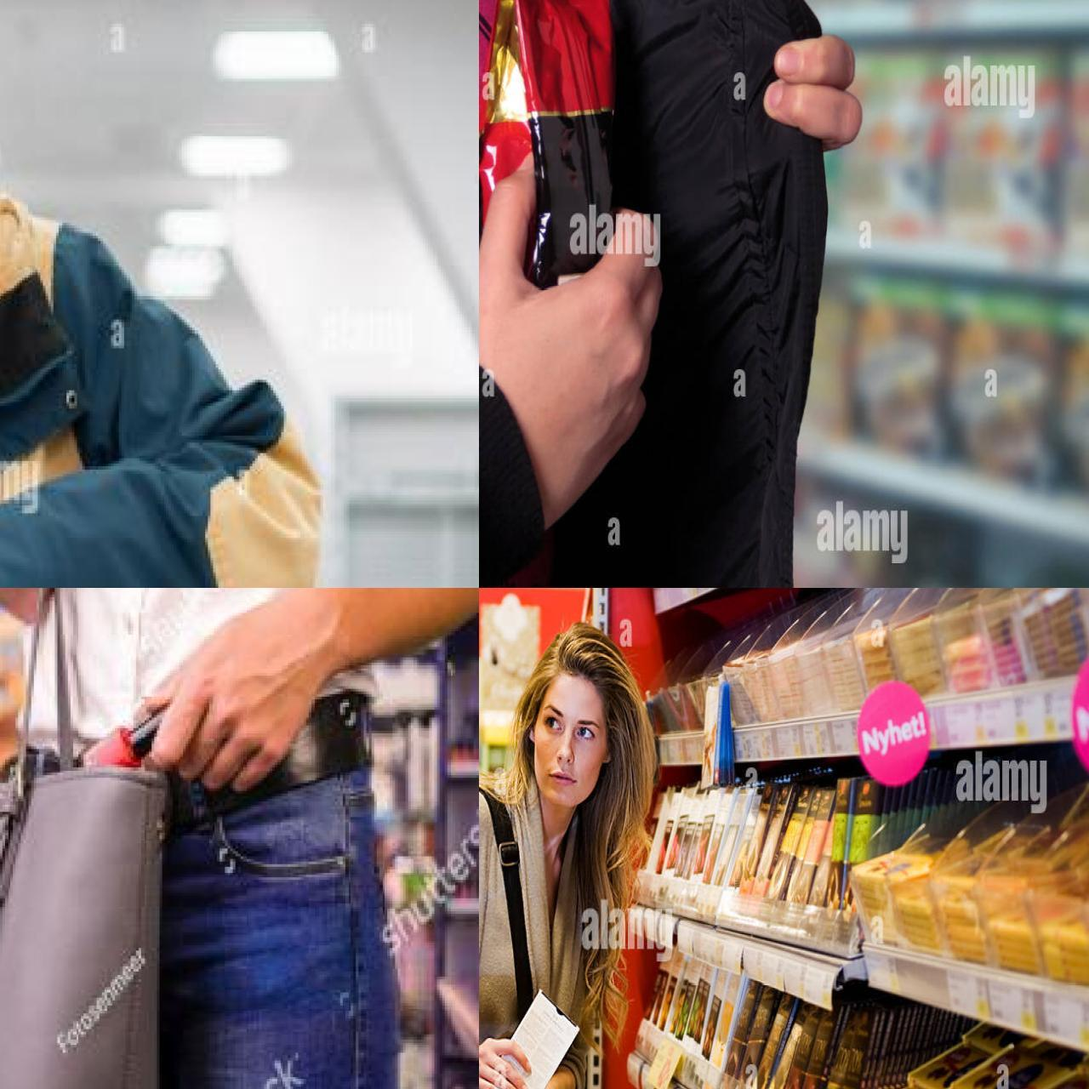shoplifting: (478, 0, 966, 584), (0, 590, 475, 1089)
